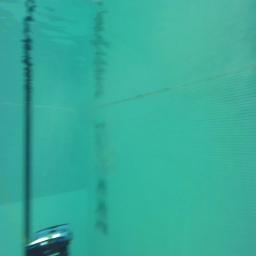Side: (23, 222, 74, 256)
